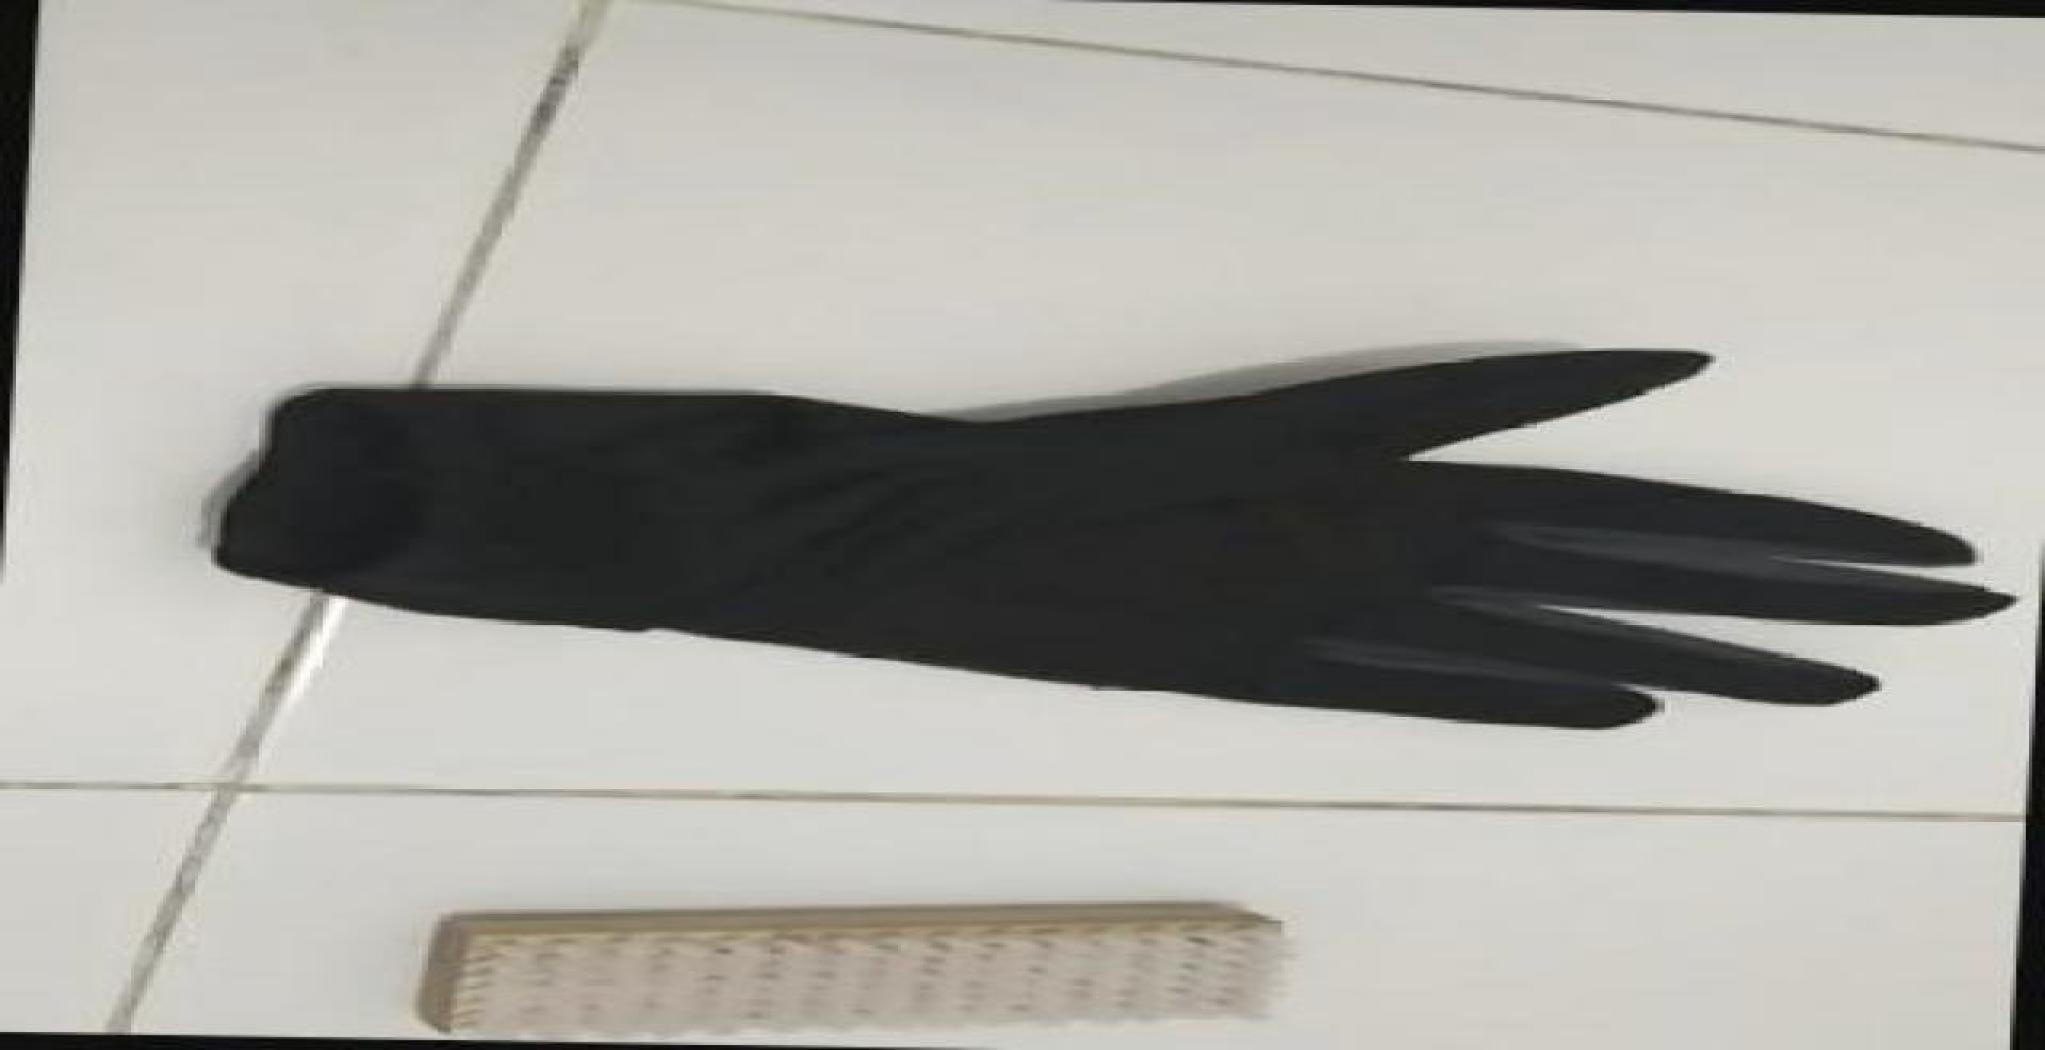gloved: (205, 341, 2016, 732)
